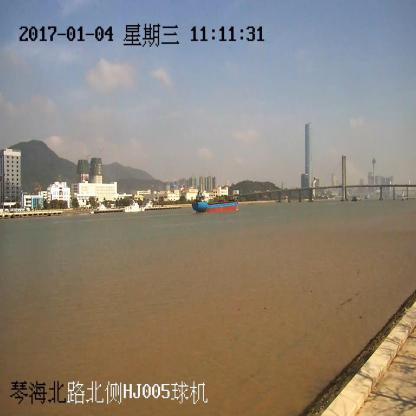Bulk Carrier: (191, 189, 239, 213)
